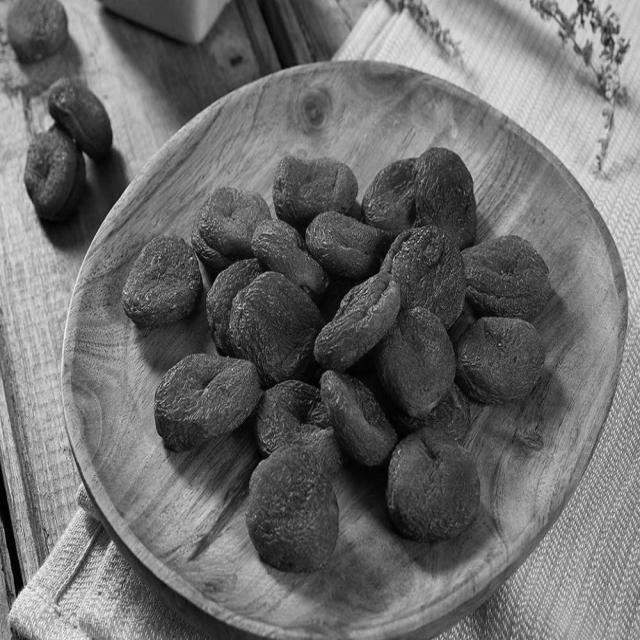Kayisi: (246, 445, 339, 573), (229, 266, 327, 386), (389, 434, 483, 541), (158, 355, 263, 447), (314, 281, 399, 366), (458, 321, 548, 401), (124, 234, 204, 320)
